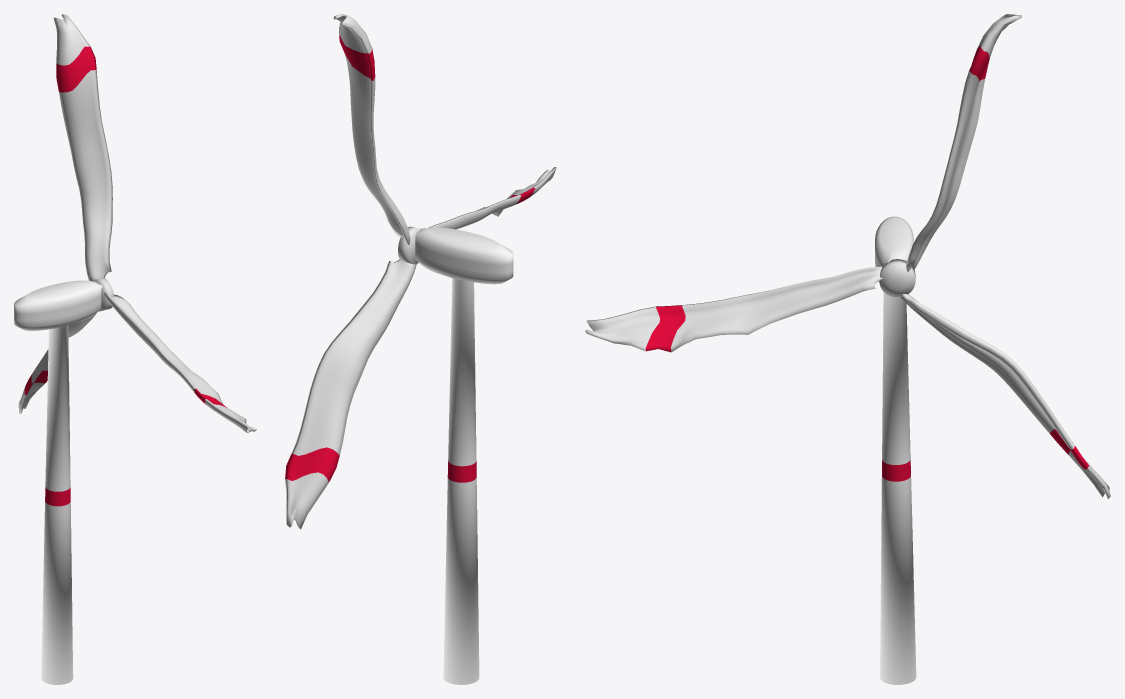
Rendered from ouioui.glb.
The picture shows the model from 3 angles, left to right: view 1: azimuth 30°, elevation 25°; view 2: azimuth 150°, elevation 25°; view 3: azimuth 270°, elevation 25°; orthographic projection. The views are drawn at different scales.
Visible parts, largest first — view 1: baton, PALE; view 2: PALE, baton; view 3: PALE, baton.
Part boxes in pixels (bbox=[...]): baton: bbox=[14, 280, 102, 684]; PALE: bbox=[18, 14, 256, 432]; PALE: bbox=[285, 14, 556, 529]; baton: bbox=[415, 227, 513, 684]; PALE: bbox=[585, 14, 1110, 498]; baton: bbox=[875, 216, 916, 684].
Size of the model in its own units: 25.79 by 127 by 86.91.
